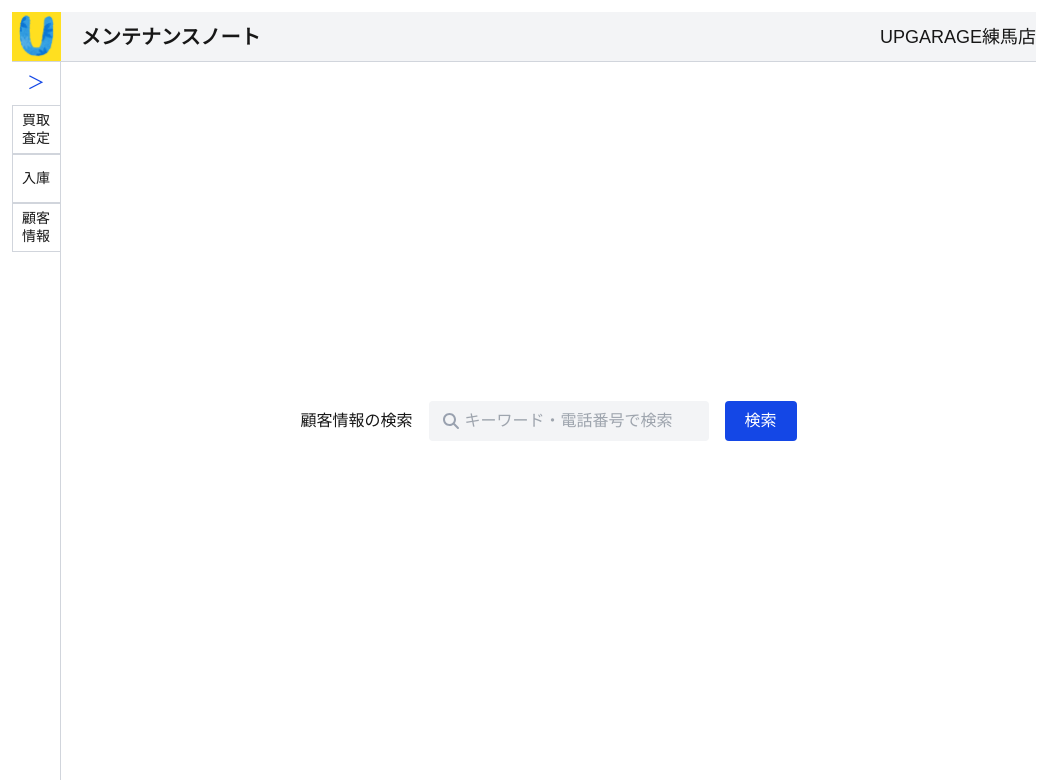
Test: UserSearchPage › サイドバーの「入庫」に hover すると OpenSidebar が表示される
Hover over the heading "入庫" at (36, 178), box [22,170,50,186]
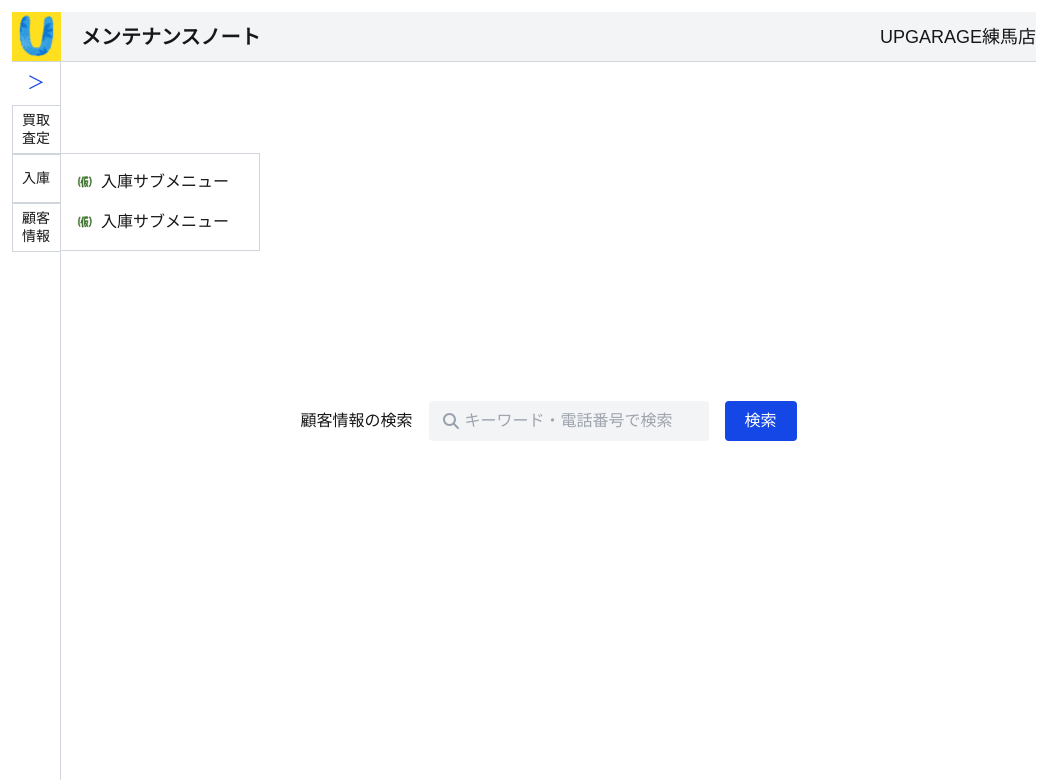
Expected: the 1st text "入庫サブメニュー" is shown, [77,173,229,190]
